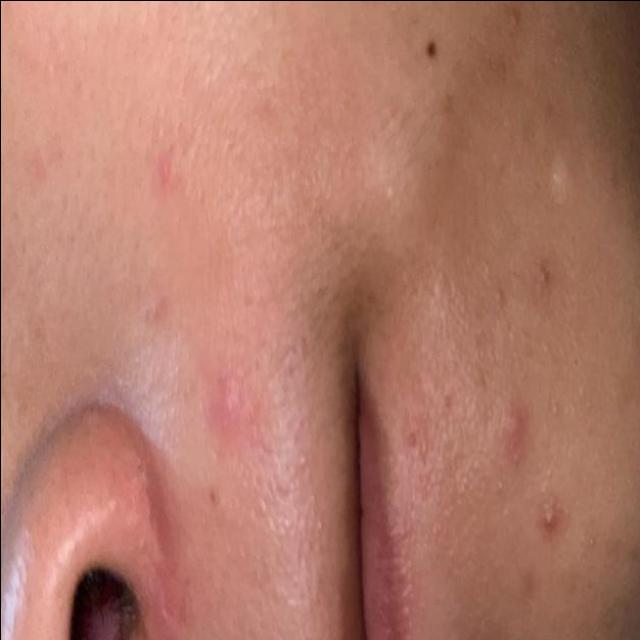papule: (205, 360, 271, 452), (480, 381, 540, 464)
pustule: (523, 479, 586, 560)
